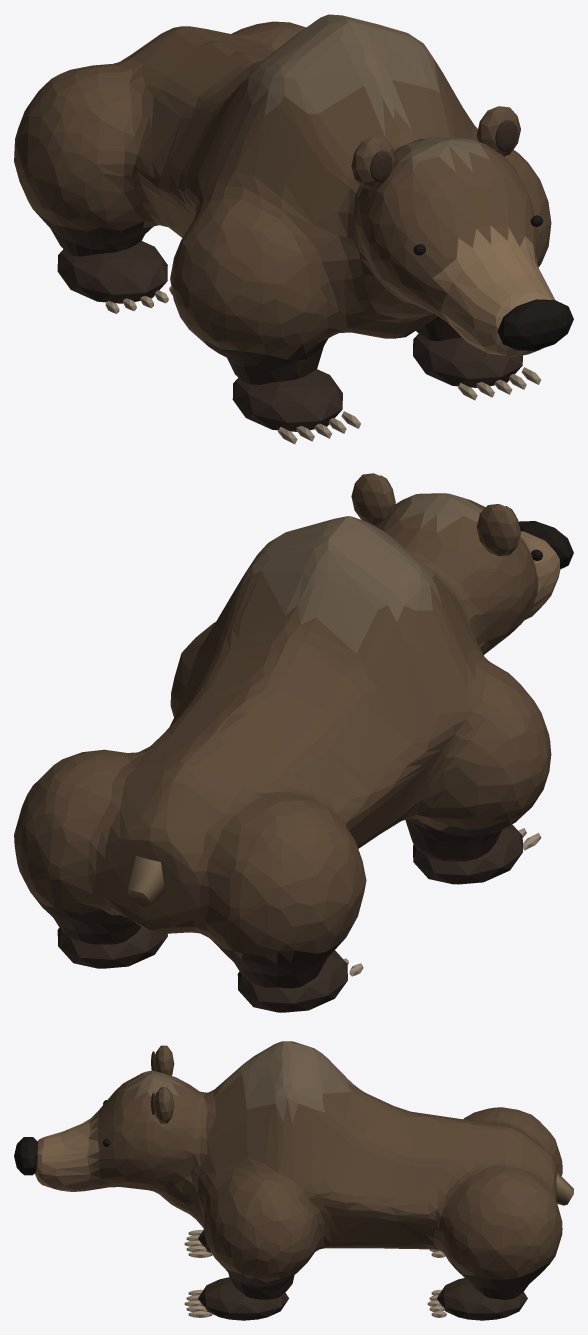
Rendered from zenscape-bear-study.glb.
The picture shows the model from 3 angles, top to bottom: view 1: azimuth 30°, elevation 25°; view 2: azimuth 150°, elevation 25°; view 3: azimuth 270°, elevation 25°; orthographic projection. The views are drawn at different scales.
Visible parts, largest first — view 1: Study_Bear_Skin, Study_Paw_Rear_R, Study_Paw_Front_R, Study_Paw_Front_L, Study_Nose, Study_Ear_R, Study_Ear_L, Study_InnerEar_L, Study_InnerEar_R; view 2: Study_Bear_Skin, Study_Paw_Rear_R, Study_Paw_Front_R, Study_Paw_Rear_L, Study_Ear_R, Study_Ear_L, Study_Tail, Study_Nose; view 3: Study_Bear_Skin, Study_Paw_Front_L, Study_Paw_Rear_L, Study_Nose, Study_Ear_L, Study_Ear_R, Study_Tail.
Boxes of the visible parts, x1=… form: Study_Bear_Skin: x1=14, y1=14, x2=554, y2=384; Study_Paw_Rear_R: x1=57, y1=241, x2=167, y2=303; Study_Paw_Front_R: x1=232, y1=369, x2=342, y2=431; Study_Paw_Front_L: x1=413, y1=333, x2=522, y2=387; Study_Nose: x1=497, y1=299, x2=573, y2=350; Study_Ear_R: x1=351, y1=136, x2=395, y2=189; Study_Ear_L: x1=476, y1=106, x2=520, y2=156; Study_InnerEar_L: x1=495, y1=119, x2=517, y2=151; Study_InnerEar_R: x1=370, y1=150, x2=392, y2=182; Study_Bear_Skin: x1=14, y1=493, x2=560, y2=988; Study_Paw_Rear_R: x1=237, y1=950, x2=347, y2=1012; Study_Paw_Front_R: x1=413, y1=824, x2=522, y2=884; Study_Paw_Rear_L: x1=57, y1=927, x2=167, y2=968; Study_Ear_R: x1=476, y1=504, x2=520, y2=556; Study_Ear_L: x1=351, y1=473, x2=395, y2=525; Study_Tail: x1=127, y1=855, x2=164, y2=906; Study_Nose: x1=518, y1=521, x2=573, y2=569; Study_Bear_Skin: x1=34, y1=1041, x2=562, y2=1299; Study_Paw_Front_L: x1=198, y1=1277, x2=288, y2=1320; Study_Paw_Rear_L: x1=437, y1=1278, x2=527, y2=1320; Study_Nose: x1=14, y1=1137, x2=37, y2=1175; Study_Ear_L: x1=155, y1=1087, x2=174, y2=1123; Study_Ear_R: x1=155, y1=1045, x2=174, y2=1075; Study_Tail: x1=556, y1=1172, x2=573, y2=1205.
Size of the model in its own units: 1.02 by 0.9653 by 2.01.
